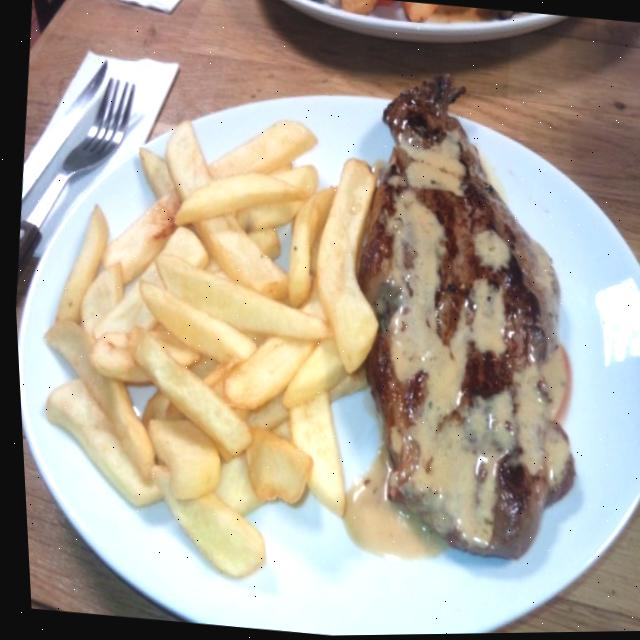炸货点心: (13, 77, 411, 603)
